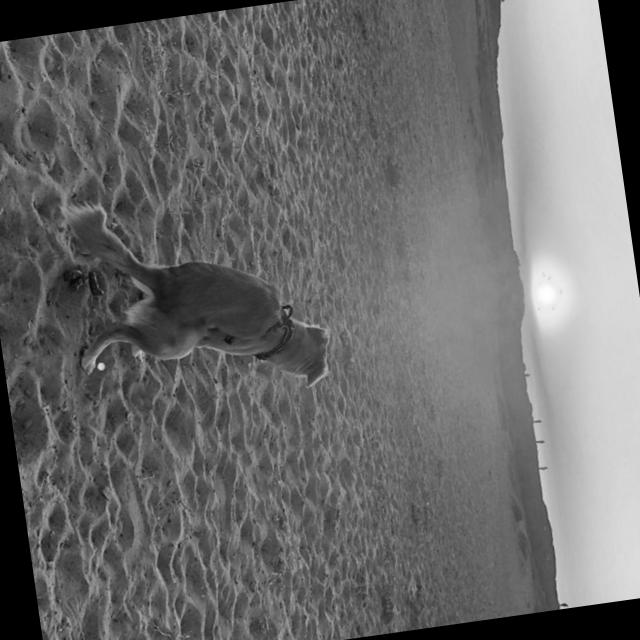squatting: (38, 161, 338, 428)
